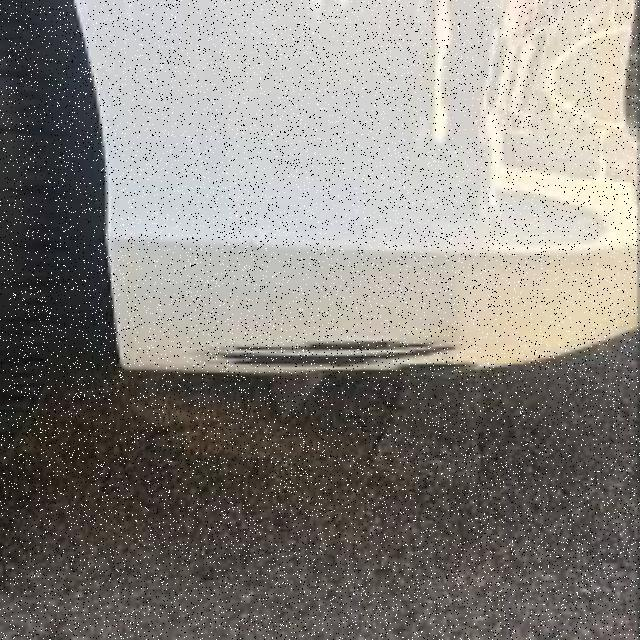front-bumper-dent: (0, 6, 637, 382)
